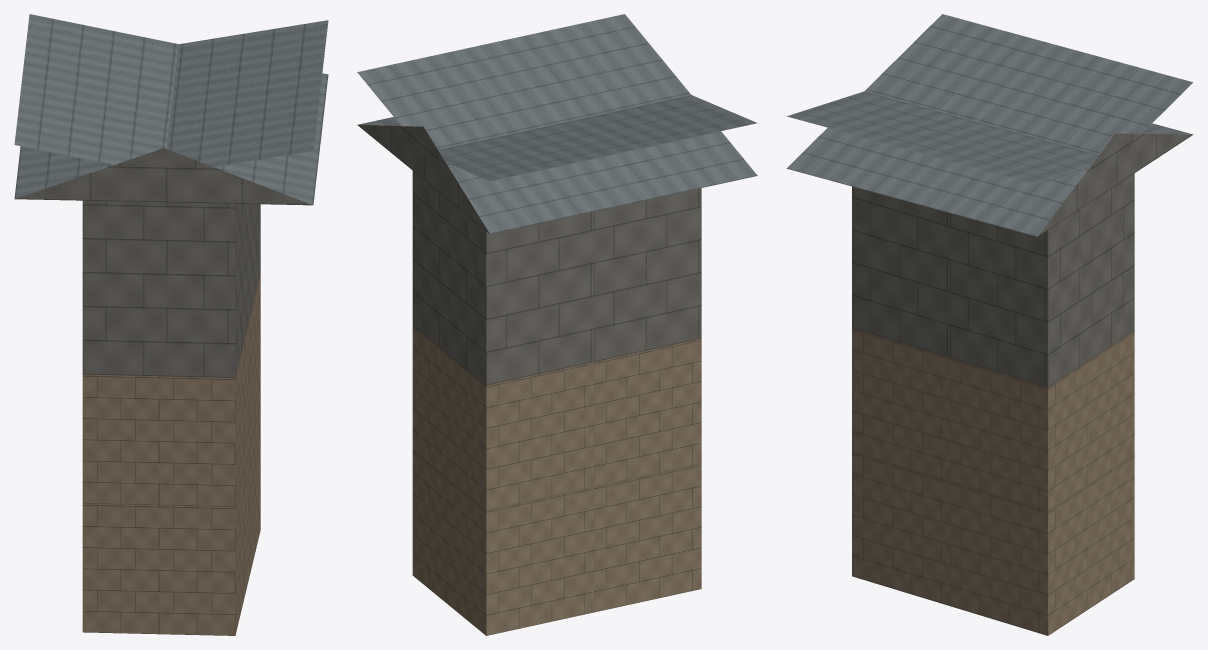
The model's file is bld_c-6_-16_654.gltf.
The picture shows the model from 3 angles, left to right: view 1: azimuth 30°, elevation 25°; view 2: azimuth 150°, elevation 25°; view 3: azimuth 270°, elevation 25°; orthographic projection. The views are drawn at different scales.
Visible parts, largest first — view 1: bld_c-6_-16_654; view 2: bld_c-6_-16_654; view 3: bld_c-6_-16_654.
Part boxes in pixels (x1=…): bld_c-6_-16_654: x1=14, y1=14, x2=328, y2=635; bld_c-6_-16_654: x1=357, y1=14, x2=757, y2=635; bld_c-6_-16_654: x1=787, y1=14, x2=1193, y2=635.
Bounding box in the file's own units: 7.01 × 9.2 × 7.07.
Materials: 4 (4 with a texture image).
